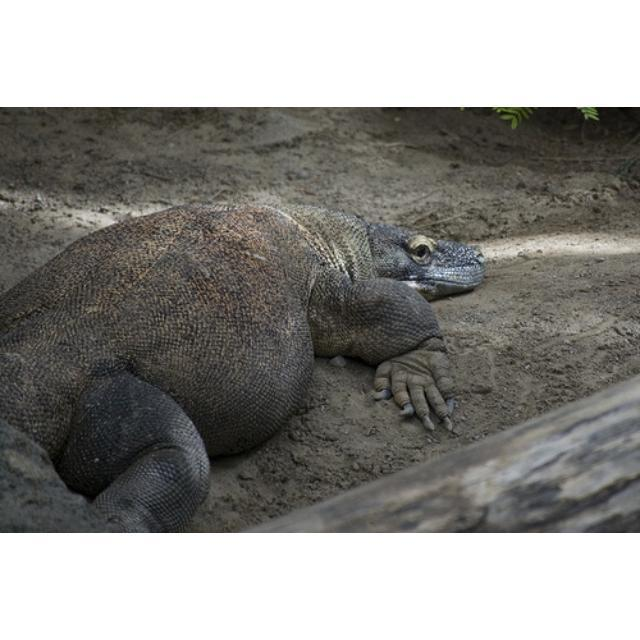KomodoDragon: (1, 201, 482, 531)
